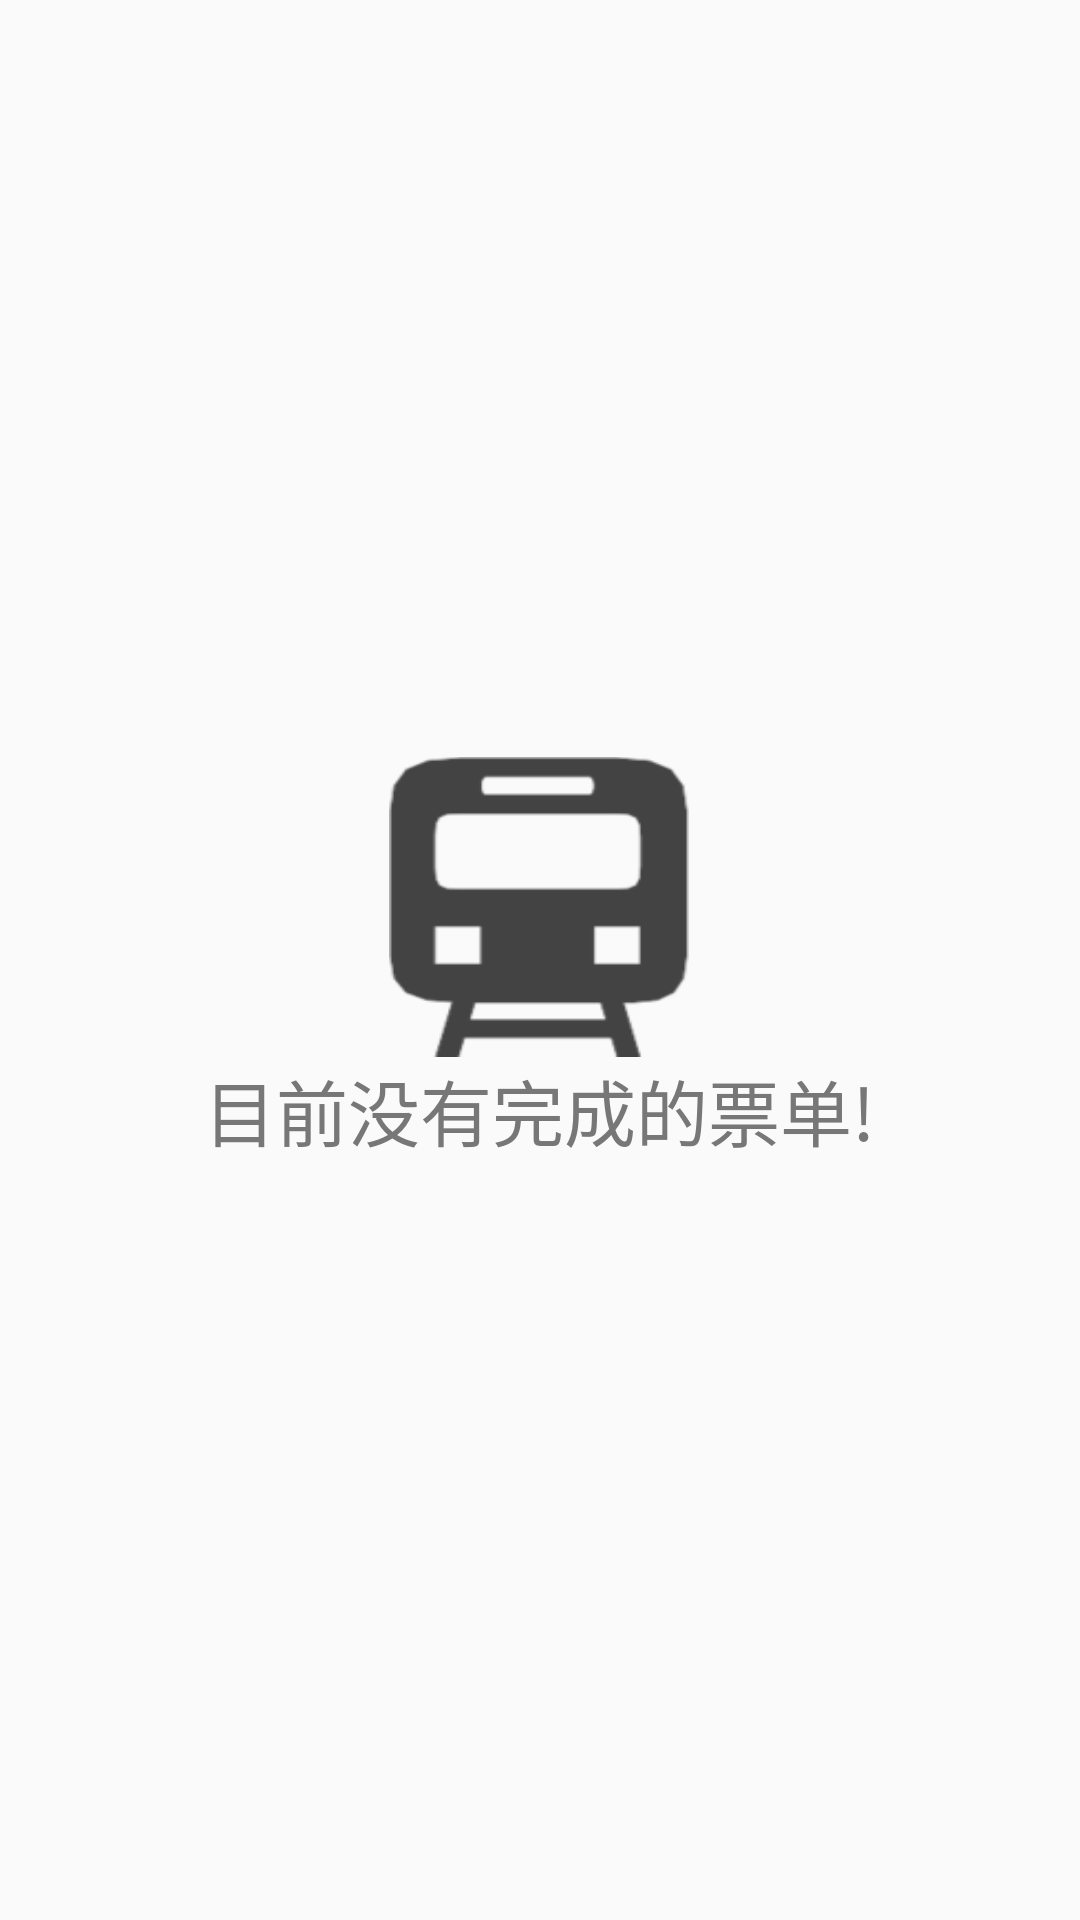

Icons on this 1080px x 1920px Android screen, each with the point to tap as [x,y]:
subway: [539,907]
